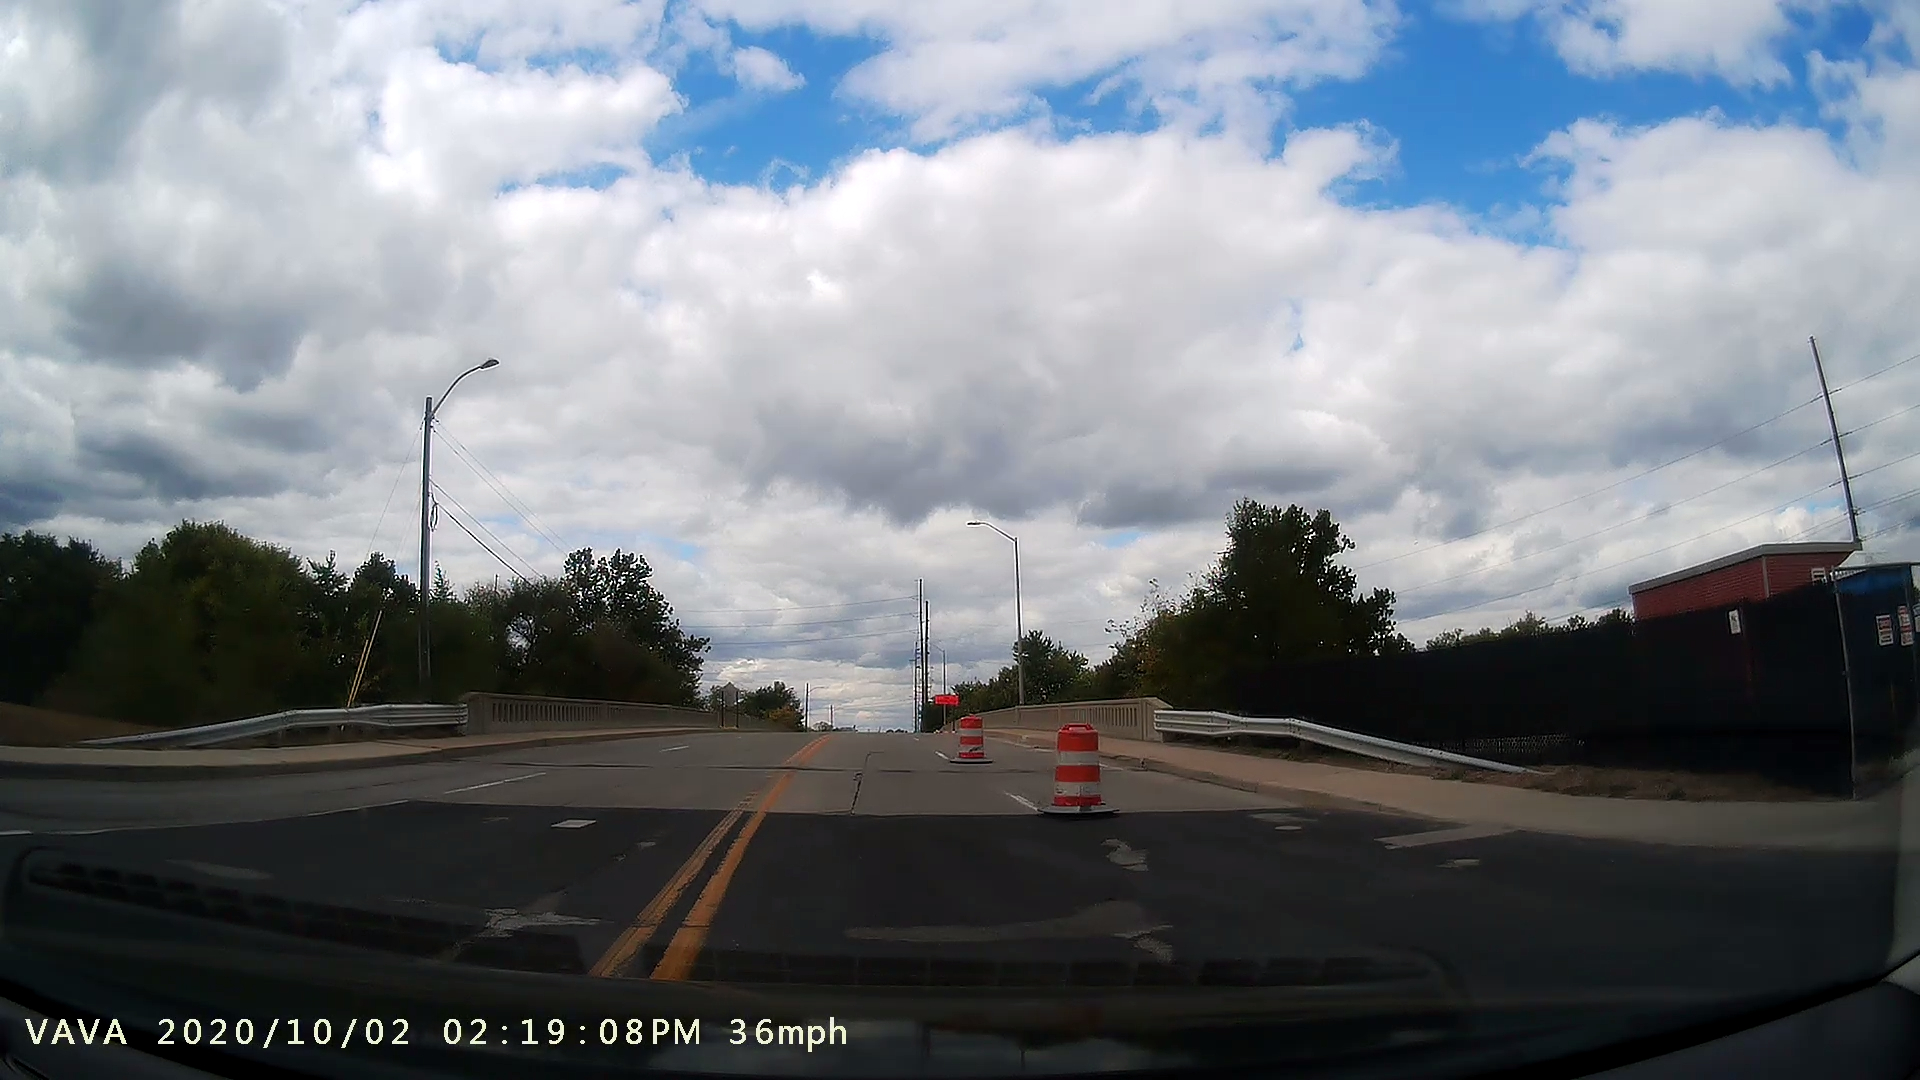const_barrel: (1029, 705, 1131, 825), (942, 694, 996, 771)
